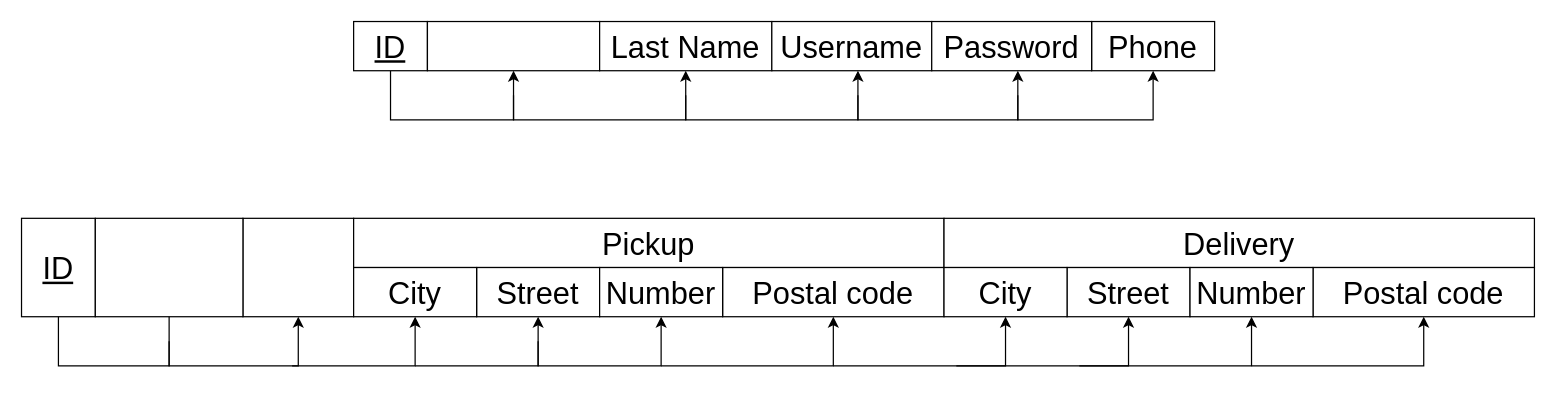
Image size: 1556x397. Some labels were removed from this diagram. Each missing label, with the box of its shape:
Date: (242, 217, 354, 317)
First Name: (426, 20, 600, 71)
ordersID: (94, 217, 243, 317)
